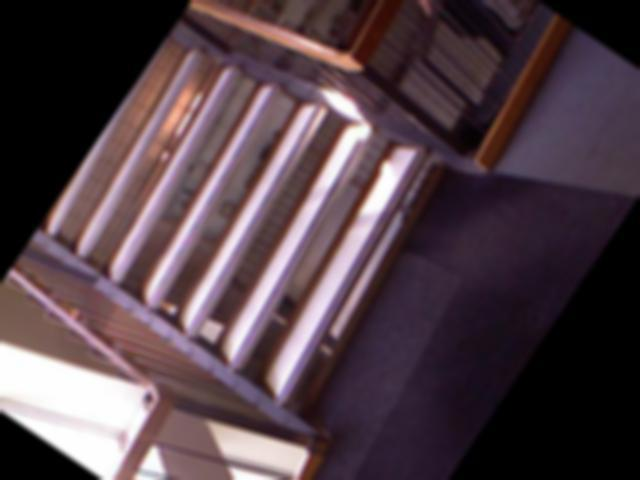Escaleras: (40, 1, 455, 414), (447, 0, 592, 152)
